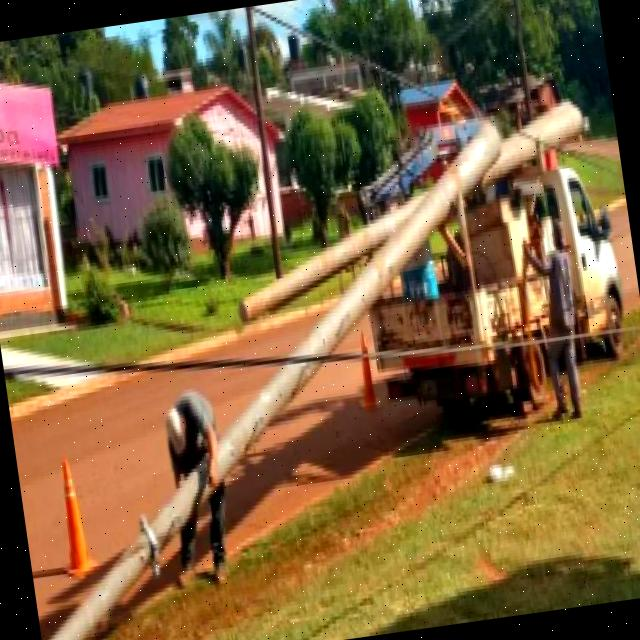Broken Pole: (48, 124, 499, 640), (240, 98, 585, 325)
